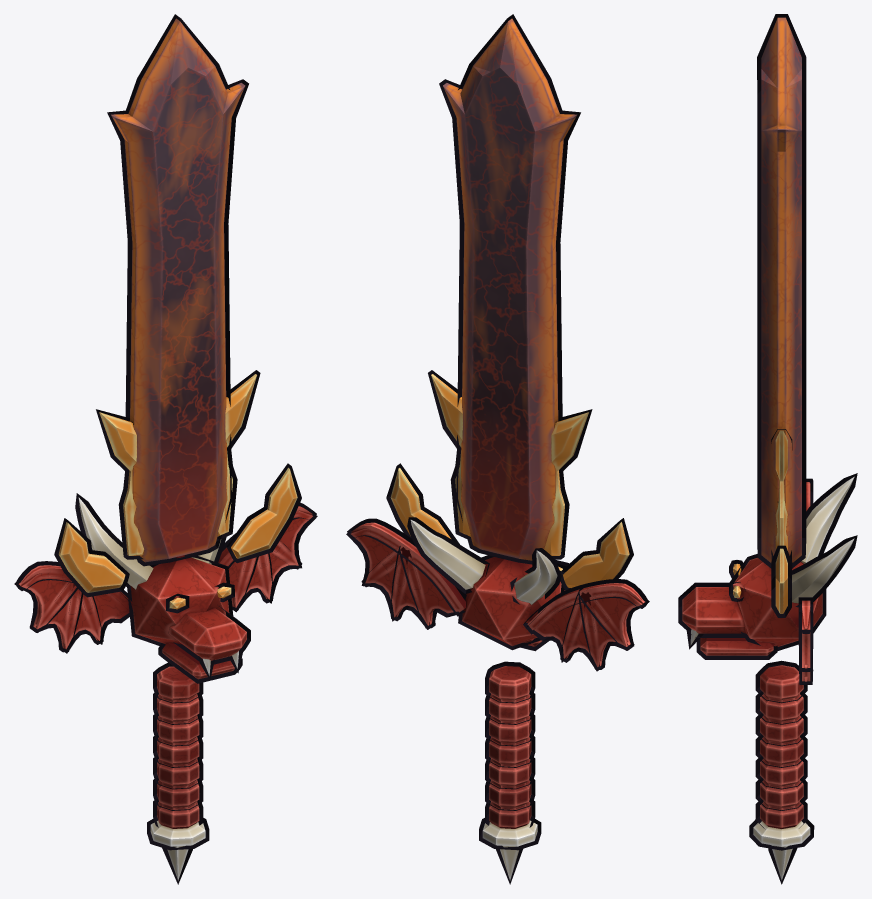
Rendered from DragonfireSword.fbx.
The picture shows the model from 3 angles, left to right: view 1: azimuth 30°, elevation 25°; view 2: azimuth 150°, elevation 25°; view 3: azimuth 270°, elevation 25°; orthographic projection.
Visible parts, largest first — view 1: DragonfireSword, DragonfireSwordOutline, DragonfireSwordDragonFire; view 2: DragonfireSword, DragonfireSwordOutline, DragonfireSwordDragonFire; view 3: DragonfireSword, DragonfireSwordOutline, DragonfireSwordDragonFire.
Part boxes in pixels (box(x1,y1,x2,y2)): DragonfireSword: box(19, 18, 312, 880); DragonfireSwordOutline: box(14, 14, 317, 884); DragonfireSwordDragonFire: box(58, 374, 297, 609); DragonfireSword: box(351, 18, 644, 880); DragonfireSwordOutline: box(346, 14, 649, 884); DragonfireSwordDragonFire: box(390, 374, 629, 587); DragonfireSword: box(682, 17, 854, 880); DragonfireSwordOutline: box(678, 14, 857, 884); DragonfireSwordDragonFire: box(733, 430, 787, 613).
Bounding box in the file's own units: 170 × 473 × 88.31.
2 materials, 1 textured.
